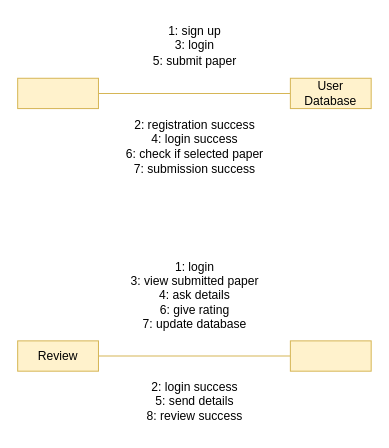
Some shapes in this 389 by 448 pixel diagram are drawn without their labels. The shapes that lost their labels are listed below. From the top down, each one's centre as x and y in pixels, then its label:
At (57,93): "User".
At (330,355): "Paper Database".
